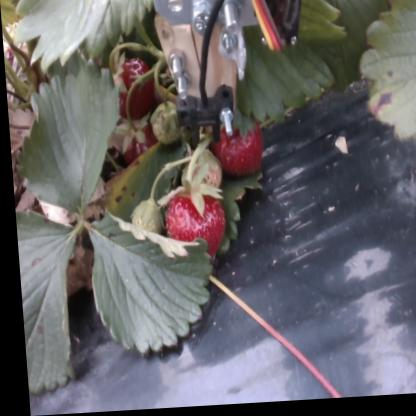ripe: (160, 184, 224, 270), (212, 115, 273, 184), (110, 50, 155, 116), (113, 118, 160, 174)
unripe: (151, 100, 182, 145), (129, 199, 158, 244)
